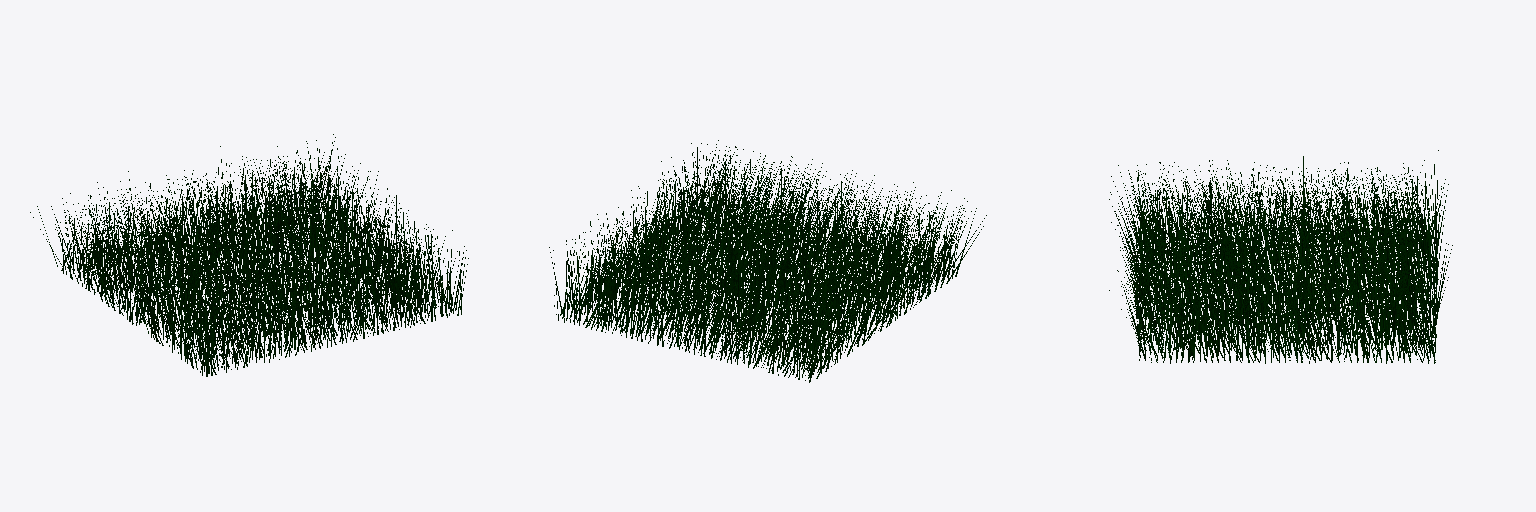
Rendered from grass.obj.
3 views of the same model, side by side, from view 1: azimuth 30°, elevation 25°; view 2: azimuth 150°, elevation 25°; view 3: azimuth 270°, elevation 25° (orthographic).
Parts seen in each view (by area): view 1: 0______011_0______011.001; view 2: 0______011_0______011.001; view 3: 0______011_0______011.001.
Boxes of the visible parts, x1,y1,x2,y2 form: 0______011_0______011.001: [30, 134, 468, 376]; 0______011_0______011.001: [549, 140, 986, 382]; 0______011_0______011.001: [1109, 150, 1452, 363].
Size of the model in its own units: 1.76 by 0.4529 by 1.73.